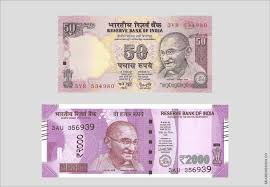twoThousand: (51, 120, 220, 166)
